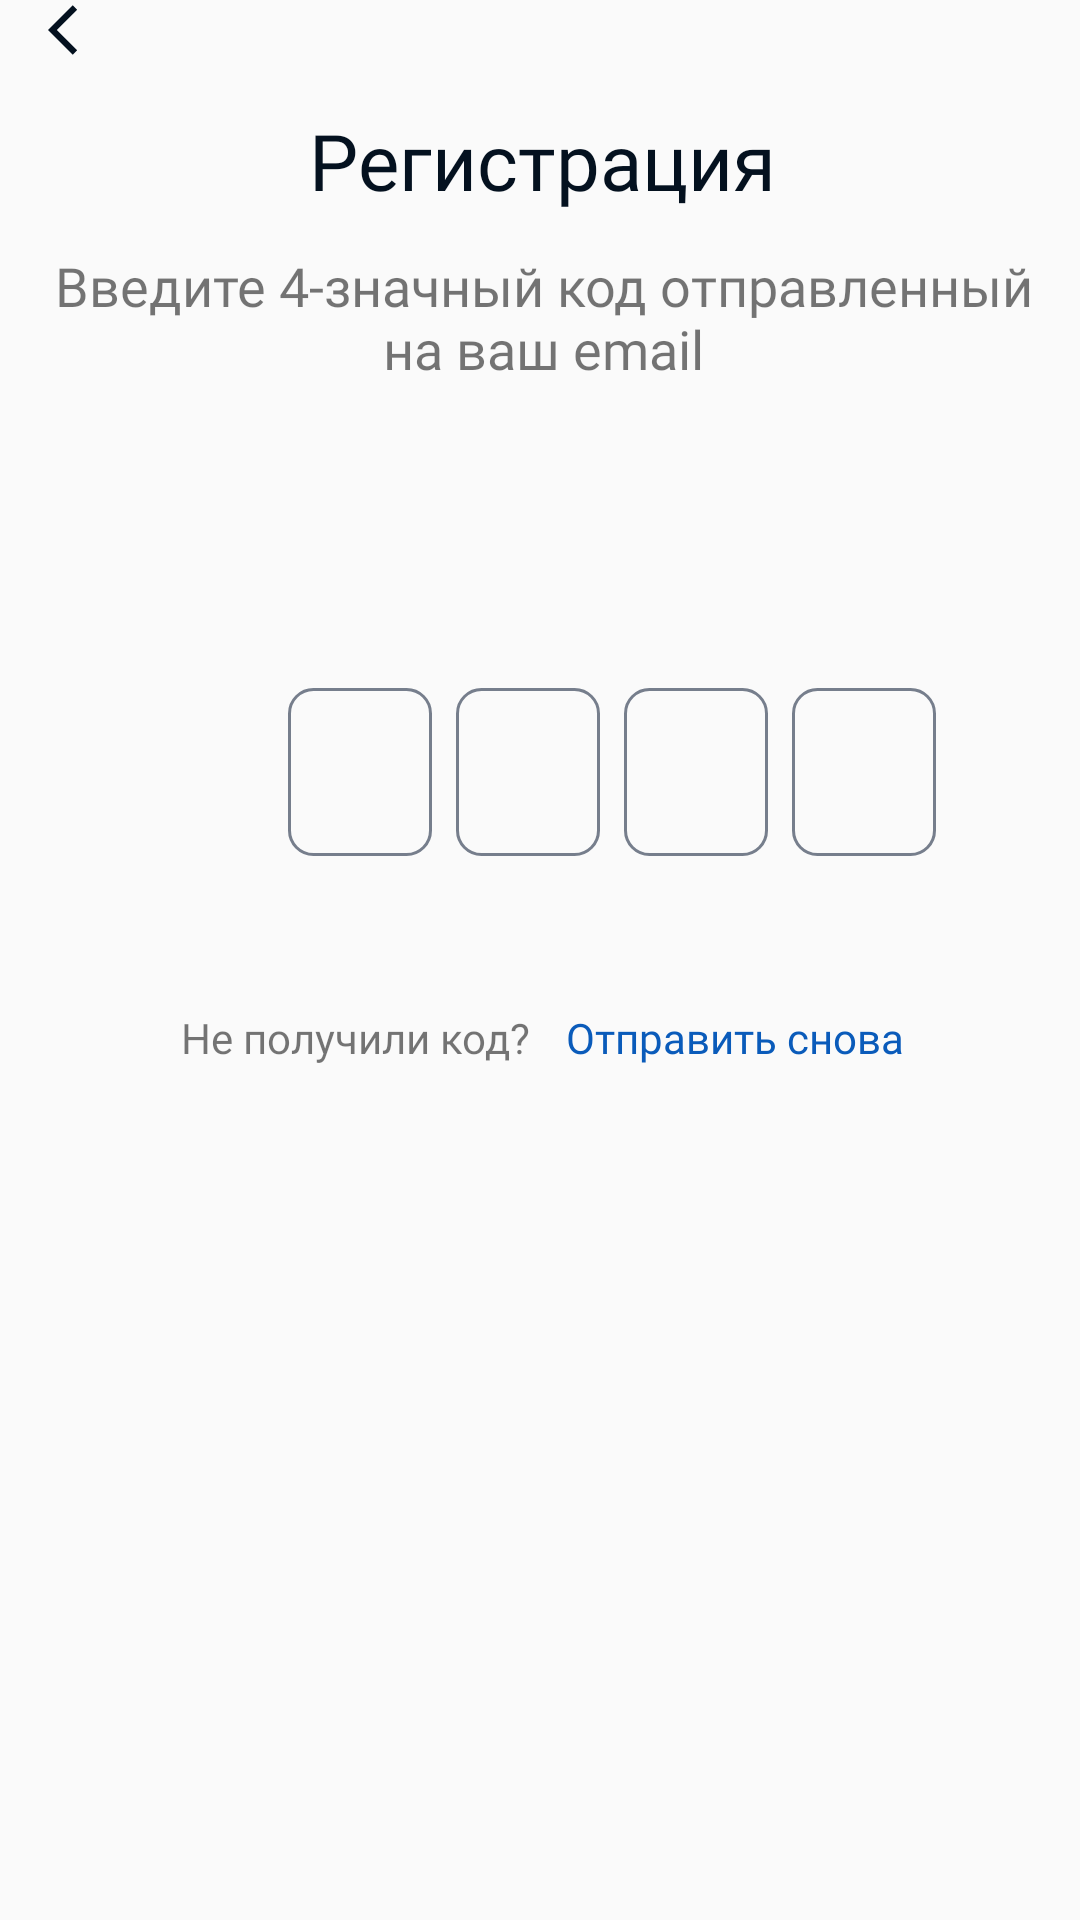

Icon bounding boxes for this 1080×1920 phone screenshot, format (x1, y1, x2, y2):
arrow back: (48, 5, 77, 55)
